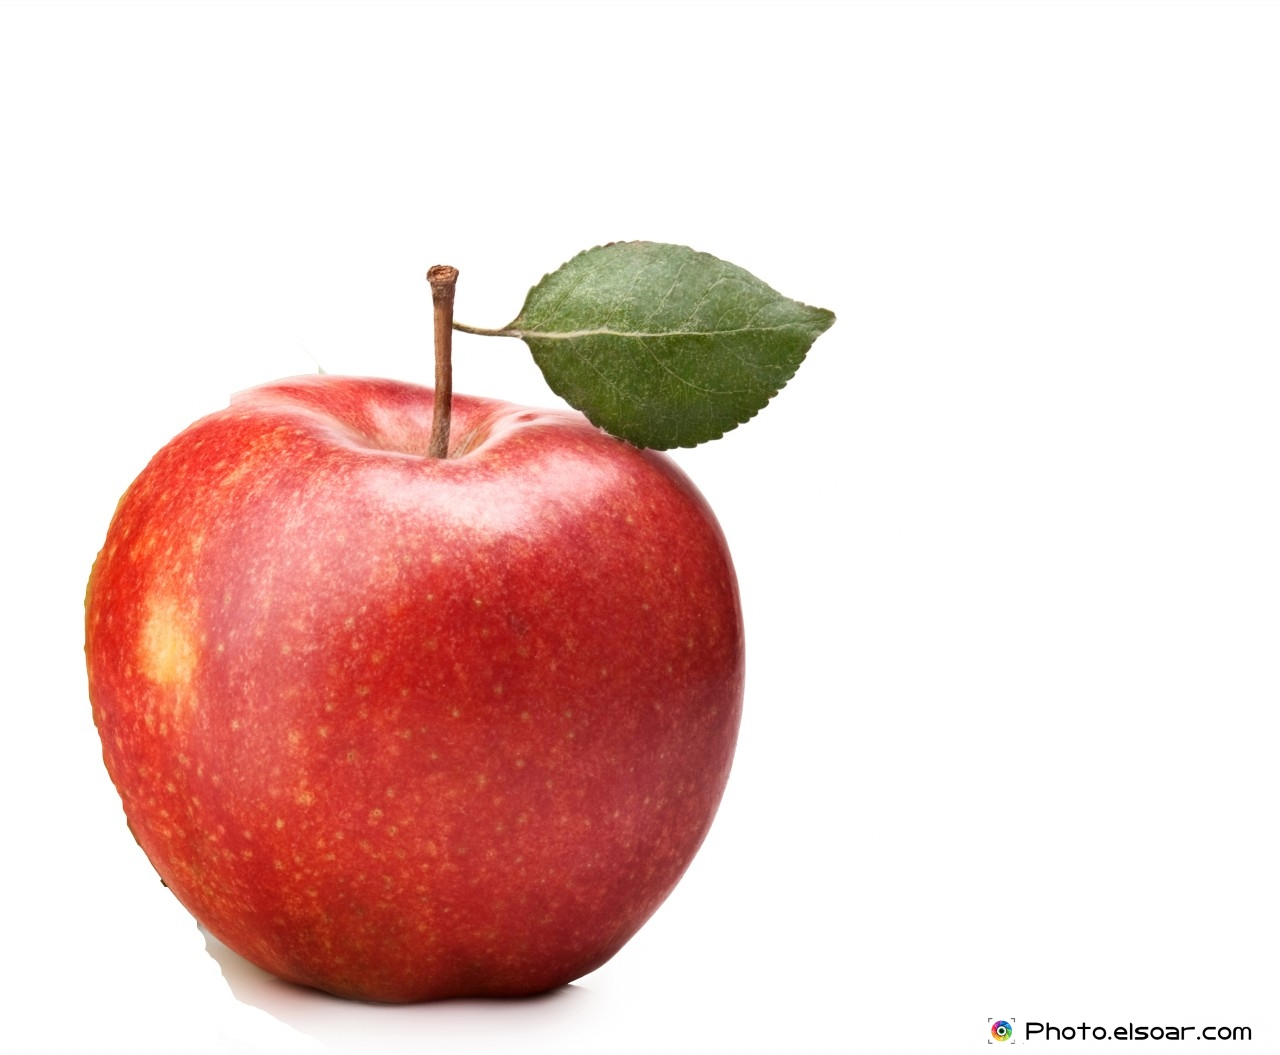apple: (54, 259, 841, 1006)
